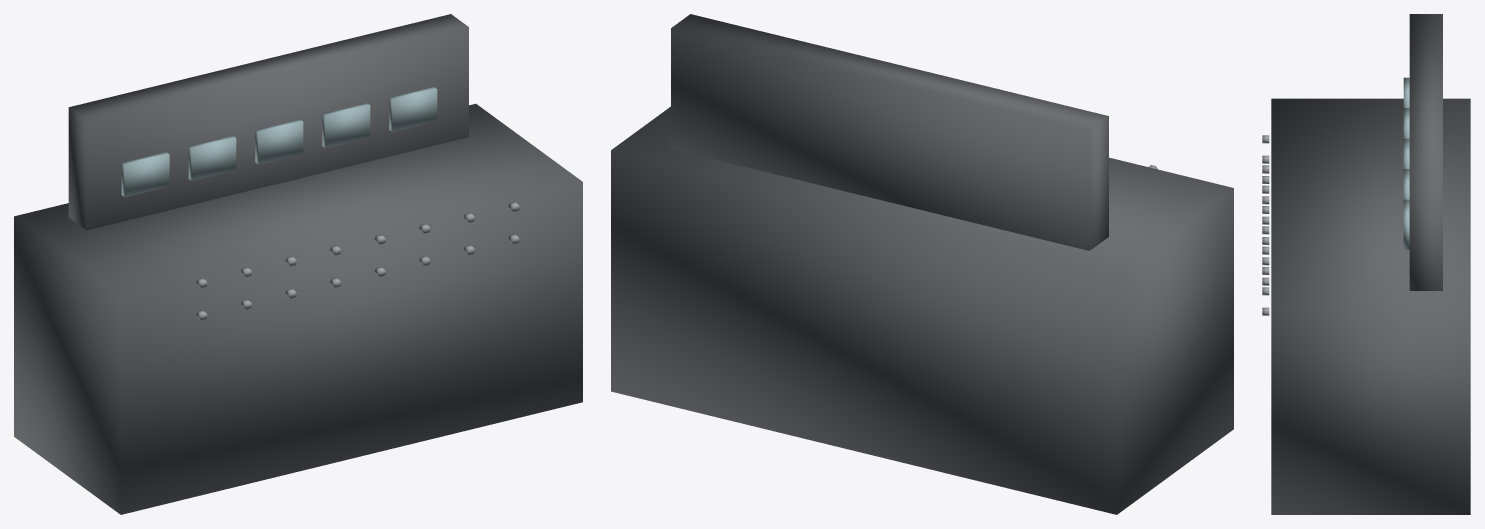
File: dispatch_console__wide.glb
3 renders of one model, left to right at view 1: azimuth 30°, elevation 25°; view 2: azimuth 150°, elevation 25°; view 3: azimuth 270°, elevation 25°, orthographic. The views are drawn at different scales.
Visible parts, largest first — view 1: world; view 2: world; view 3: world.
Part boxes in pixels (x1=…): world: x1=14, y1=14, x2=582, y2=514; world: x1=611, y1=14, x2=1233, y2=514; world: x1=1262, y1=14, x2=1470, y2=514.
Bounding box in the file's own units: 1.8 × 1.23 × 0.7525.
